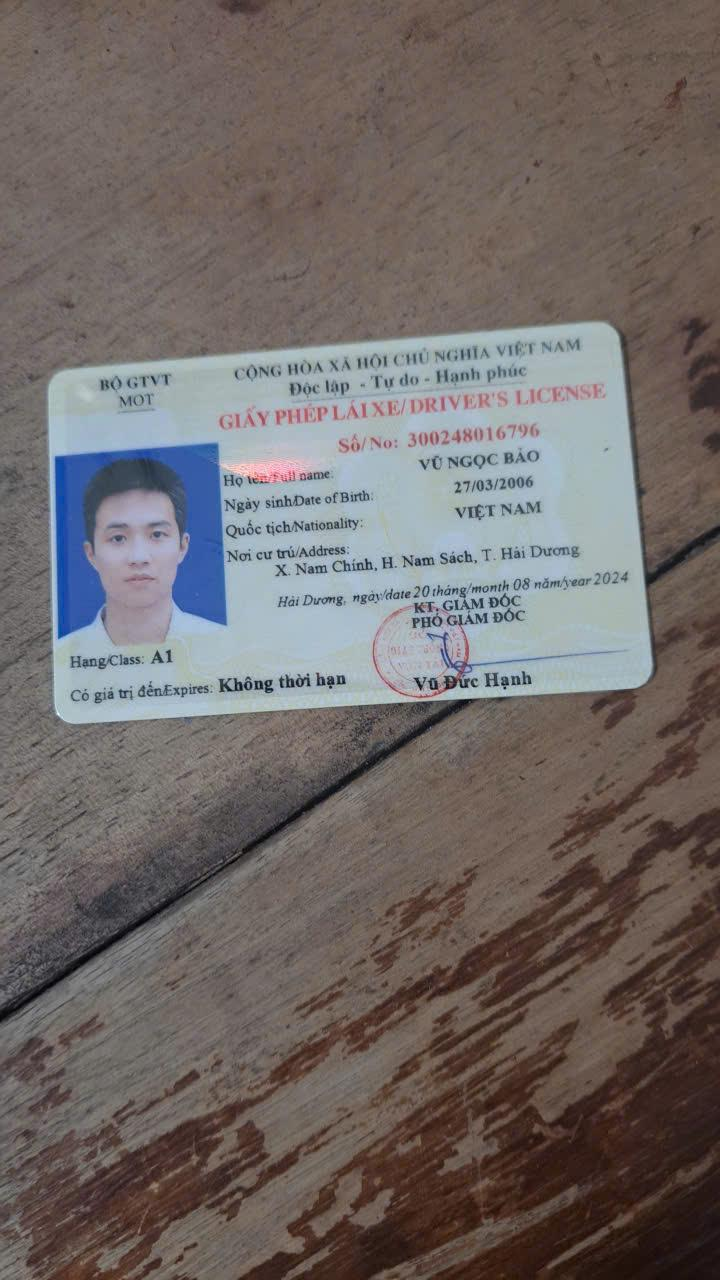gplx: (40, 317, 660, 737)
